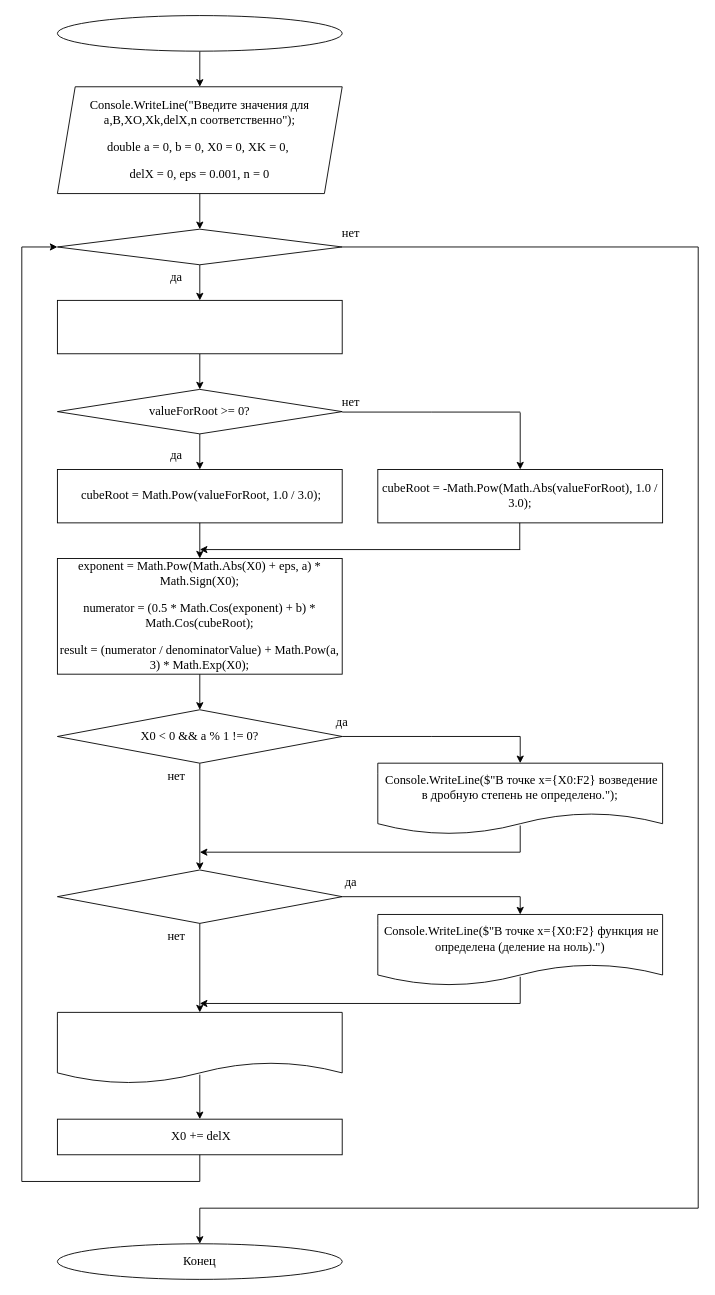
Image size: 715x1295. Some labels were removed from this diagram. Here are the shapes that lost their labels. From the top down, the centre of each, then its label:
the point at 199,33: Начало
the point at 199,246: X0 <= XK ?
the point at 199,326: valueForRoot = Math.Pow(a, 2) + b - n;
the point at 199,896: (Math.Abs(denominatorValue) < eps)?
the point at 199,1047: Console .WriteLine( $"В точке x= {X0: F2 } функция равна = {j: F4 } " );
